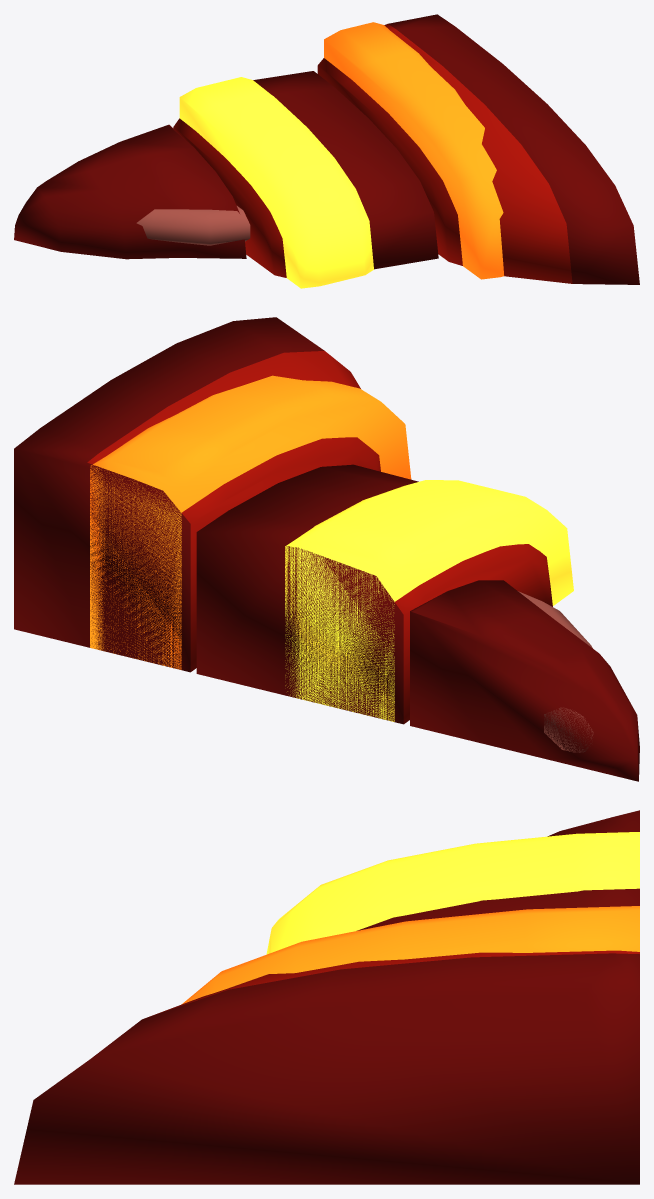
File: newshe-123.glb
3 views of the same model, one above another, from view 1: azimuth 30°, elevation 25°; view 2: azimuth 150°, elevation 25°; view 3: azimuth 270°, elevation 25° (orthographic). The views are drawn at different scales.
Parts seen in each view (by area): view 1: newshe-123; view 2: newshe-123; view 3: newshe-123.
Boxes of the visible parts, x1=… form: newshe-123: x1=14, y1=14, x2=639, y2=288; newshe-123: x1=14, y1=317, x2=639, y2=781; newshe-123: x1=14, y1=810, x2=639, y2=1184.
Size of the model in its own units: 1.71 by 0.5026 by 1.42.
